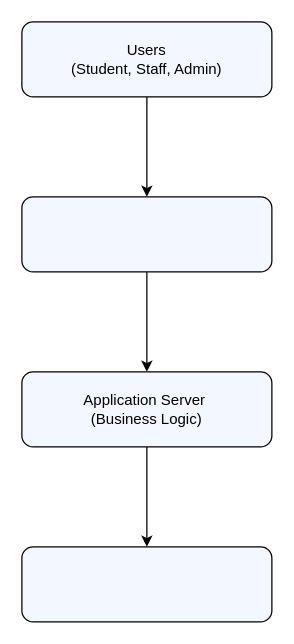
The diagram is 294 pixels wide and 644 high, and some of its shapes have lost their labels. Each missing label, with the centre of its shape:
Database (User, Lost_items Found_items, Claims): the point at 146,584
Web Interface (UI Interface: HTML, CSS, JS): the point at 146,234
